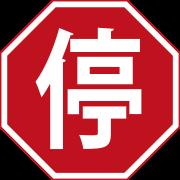Stop: (2, 9, 178, 177)
